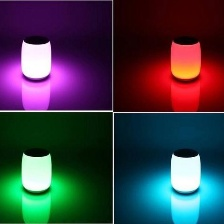light_bulb: (17, 144, 55, 198), (18, 32, 54, 84), (168, 34, 205, 82), (167, 145, 201, 194)
